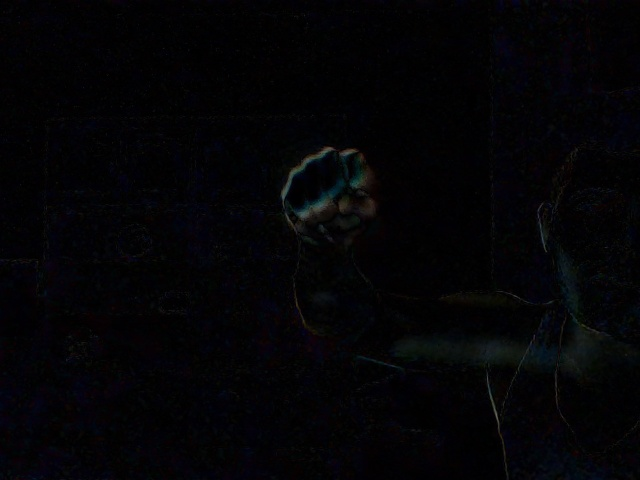hand_fi: (270, 134, 384, 239)
